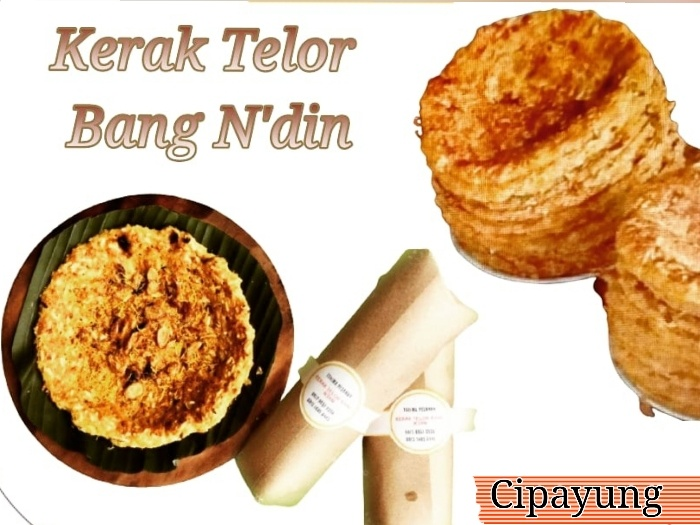kerak_telor: (30, 227, 247, 455), (414, 10, 645, 177)
